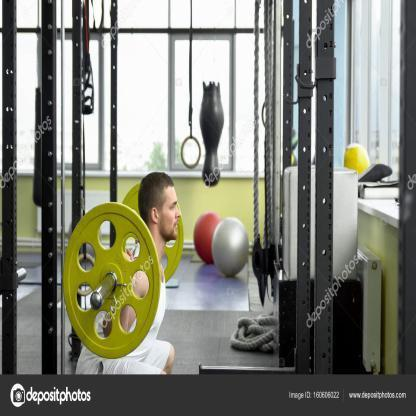barbell: (65, 185, 184, 361)
